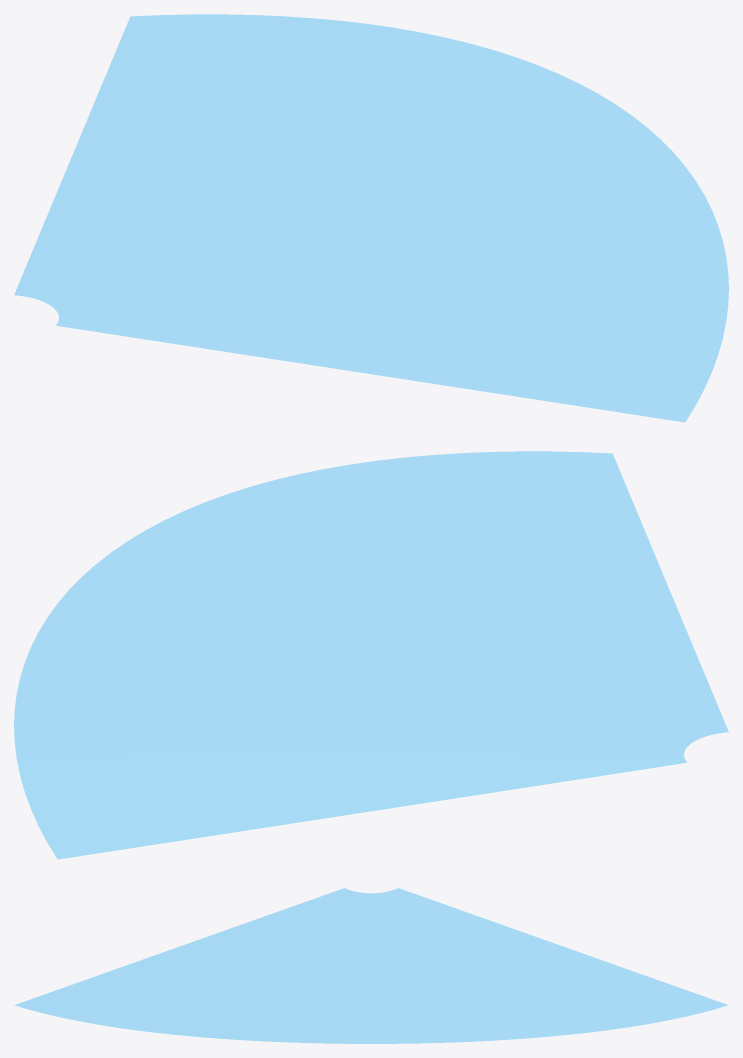
Rendered from SlashArc.glb.
3 views of the same model, one above another, from view 1: azimuth 30°, elevation 25°; view 2: azimuth 150°, elevation 25°; view 3: azimuth 270°, elevation 25° (orthographic). The views are drawn at different scales.
Visible parts, largest first — view 1: SlashArc; view 2: SlashArc; view 3: SlashArc.
Boxes of the visible parts, x1=… form: SlashArc: x1=14, y1=14, x2=728, y2=422; SlashArc: x1=14, y1=451, x2=728, y2=859; SlashArc: x1=14, y1=888, x2=728, y2=1043.
Bounding box in the file's own units: 1.9 × 0.15 × 3.06.
